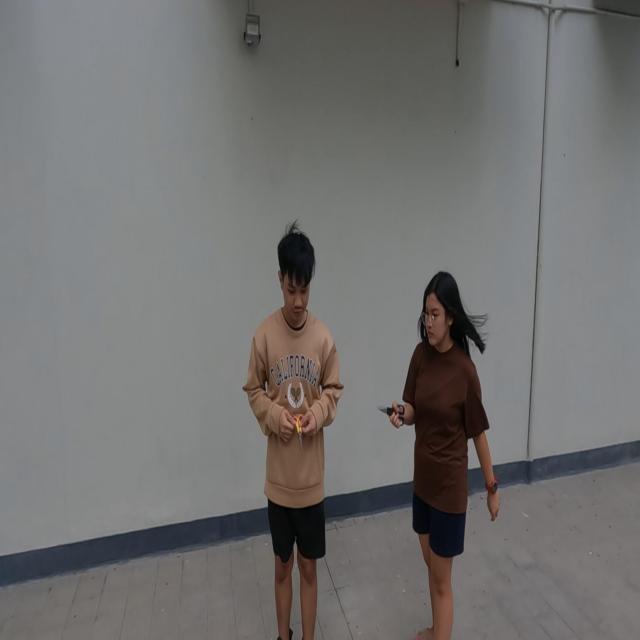scissor: (378, 402, 406, 428), (292, 413, 304, 451)
